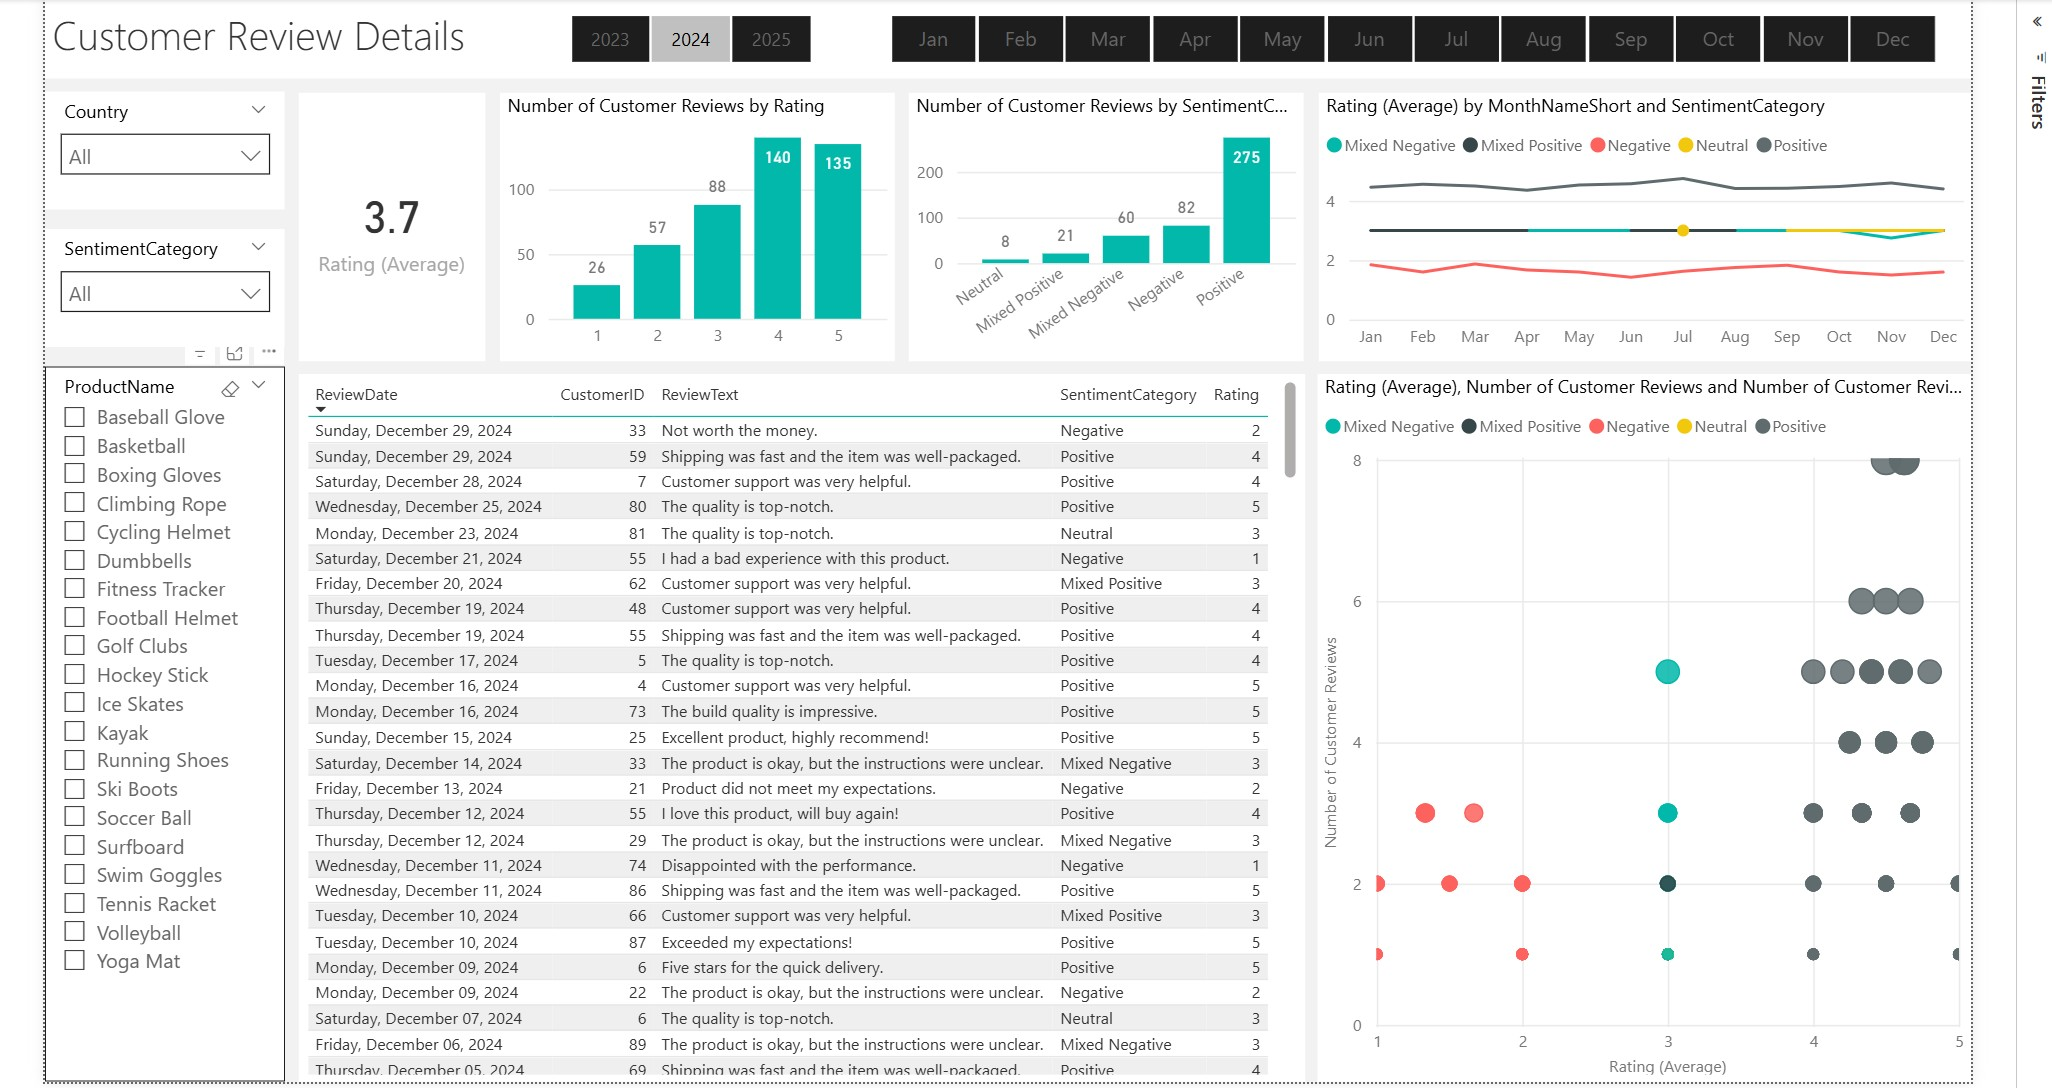

The dashboard page shown, as its layout file describes it:
{"tool":"powerbi","page":{"name":"Customer Review Details","canvas":[1280,720],"ordinal":3},"visuals":[{"type":"textbox","box":[0,0,1280,52.6],"z":0},{"type":"slicer","fields":{"Values":["dim_products.ProductName"]},"box":[0,244.2,159.3,475.3],"z":1000},{"type":"card","fields":{"Values":["_Calculations.Rating (Average)"]},"box":[168.5,61.9,123.8,178.5],"z":2000},{"type":"slicer","fields":{"Values":["Calendar.MonthNameShort"]},"box":[536.8,4.1,743.2,44.4],"z":3000},{"type":"lineChart","fields":{"Category":["Calendar.MonthNameShort"],"Y":["_Calculations.Rating (Average)"],"Series":["fact_customer_reviews_with_sentiment.SentimentCategory"]},"box":[846.2,62,434.1,178.4],"z":4000},{"type":"slicer","fields":{"Values":["Calendar.Year"]},"box":[324.1,4.1,208.5,44.4],"z":5000},{"type":"tableEx","fields":{"Values":["fact_customer_reviews_with_sentiment.ReviewDate","fact_customer_reviews_with_sentiment.CustomerID","fact_customer_reviews_with_sentiment.ReviewText","fact_customer_reviews_with_sentiment.SentimentCategory","fact_customer_reviews_with_sentiment.Rating"]},"box":[168.5,249.5,668.4,470.8],"z":6000},{"type":"columnChart","fields":{"Category":["fact_customer_reviews_with_sentiment.Rating"],"Y":["_Calculations.Number of Customer Reviews"]},"box":[302.4,62,262.4,178.4],"z":7000},{"type":"columnChart","fields":{"Category":["fact_customer_reviews_with_sentiment.SentimentCategory"],"Y":["_Calculations.Number of Customer Reviews"]},"box":[574.3,62,262.4,178.4],"z":8000},{"type":"slicer","fields":{"Values":["dim_customers.Country"]},"box":[0,61.4,159.3,78.3],"z":9000},{"type":"slicer","fields":{"Values":["fact_customer_reviews_with_sentiment.SentimentCategory"]},"box":[0,152.8,159.3,78.3],"z":10000},{"type":"scatterChart","fields":{"Category":["dim_customers.CustomerID"],"Series":["fact_customer_reviews_with_sentiment.SentimentCategory"],"X":["_Calculations.Rating (Average)"],"Y":["_Calculations.Number of Customer Reviews"],"Size":["_Calculations.Number of Customer Reviews"]},"box":[846,249.5,434.4,470.8],"z":11000}]}

Visuals, with their boxes on the page's 1280x720 design canvas (x1, y1, x2, y2). These are canvas units, not pixel positions in the 2052x1088 screenshot, which may show the page scaled, cropped or inside an application window:
textbox: bbox(0, 0, 1280, 53)
slicer - dim_products.ProductName: bbox(0, 244, 159, 720)
card - _Calculations.Rating (Average): bbox(168, 62, 292, 240)
slicer - Calendar.MonthNameShort: bbox(537, 4, 1280, 48)
lineChart - Calendar.MonthNameShort x _Calculations.Rating (Average): bbox(846, 62, 1280, 240)
slicer - Calendar.Year: bbox(324, 4, 533, 48)
tableEx - fact_customer_reviews_with_sentiment.ReviewDate x fact_customer_reviews_with_sentiment.CustomerID: bbox(168, 250, 837, 720)
columnChart - fact_customer_reviews_with_sentiment.Rating x _Calculations.Number of Customer Reviews: bbox(302, 62, 565, 240)
columnChart - fact_customer_reviews_with_sentiment.SentimentCategory x _Calculations.Number of Customer Reviews: bbox(574, 62, 837, 240)
slicer - dim_customers.Country: bbox(0, 61, 159, 140)
slicer - fact_customer_reviews_with_sentiment.SentimentCategory: bbox(0, 153, 159, 231)
scatterChart - dim_customers.CustomerID x fact_customer_reviews_with_sentiment.SentimentCategory: bbox(846, 250, 1280, 720)
